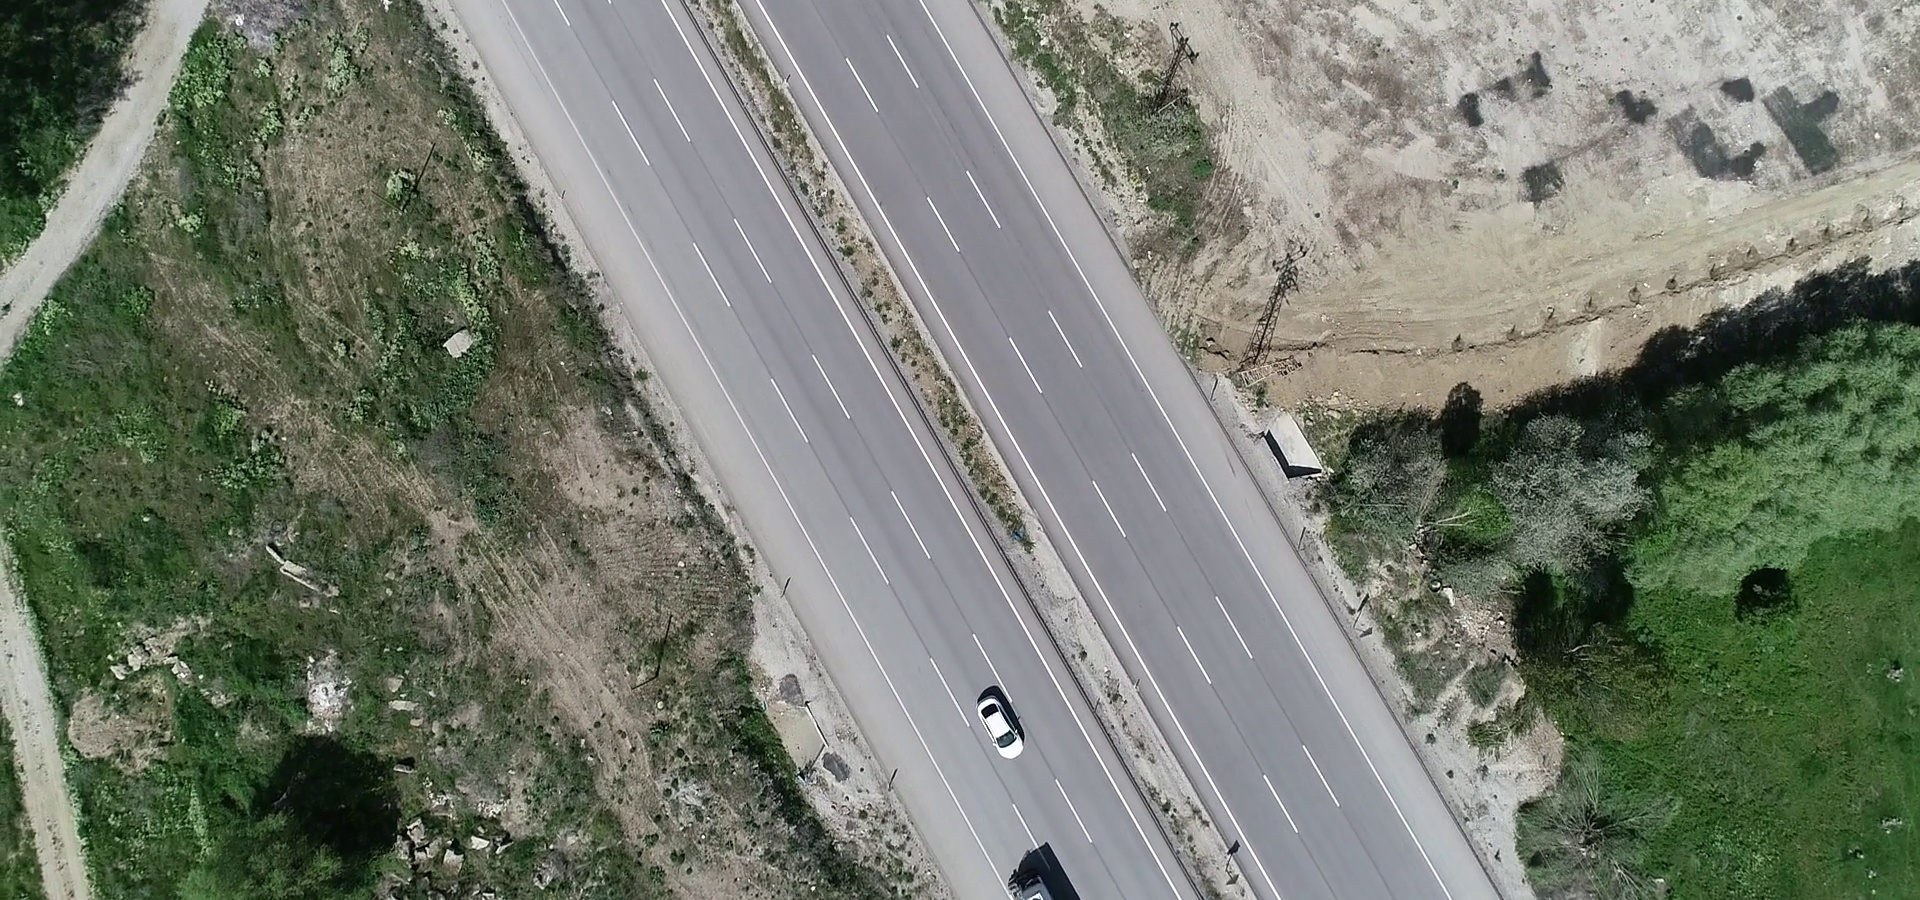arac: (969, 680, 1022, 762)
